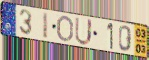0: (118, 25, 132, 53)
1: (107, 22, 114, 51)
3: (19, 9, 33, 37)
I: (42, 11, 50, 40)
O: (56, 15, 74, 44)
U: (74, 16, 93, 47)
